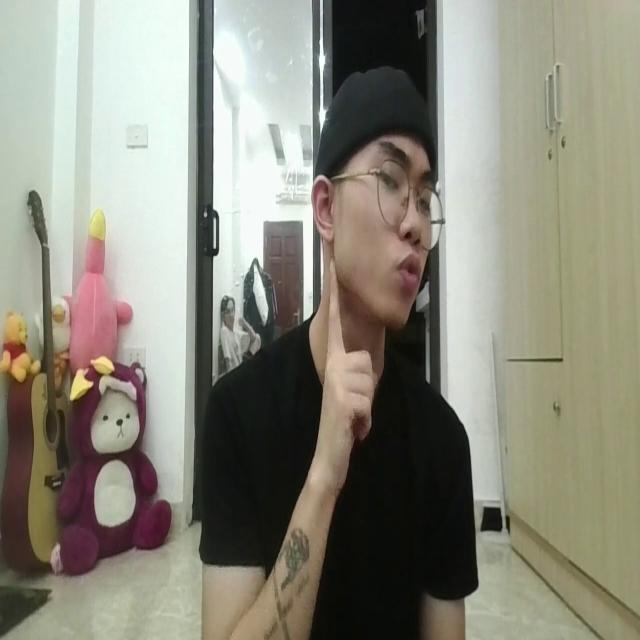student: (196, 55, 474, 640)
